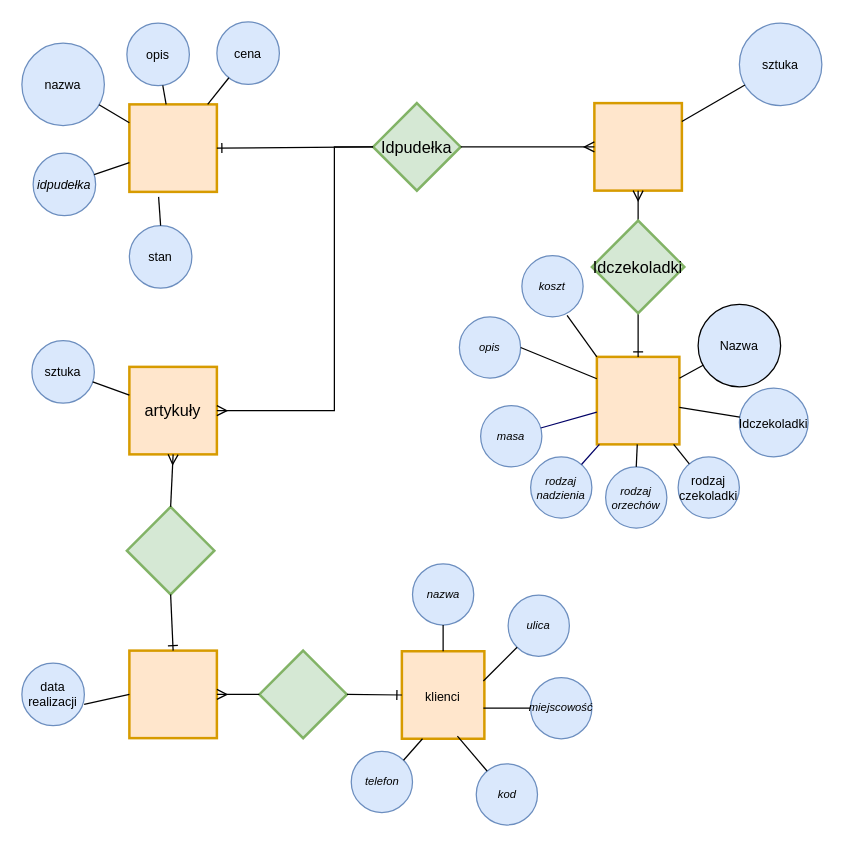
Some shapes in this 844 by 848 pixel diagram are drawn without their labels. Each missing label, with the box of its shape:
CZEKOLADKI: (595, 355, 680, 445)
id zamówienia: (125, 505, 215, 595)
idklienta: (258, 649, 348, 739)
pudełka: (128, 102, 218, 192)
zamówienie: (128, 649, 218, 739)
zawartość: (592, 101, 682, 191)
